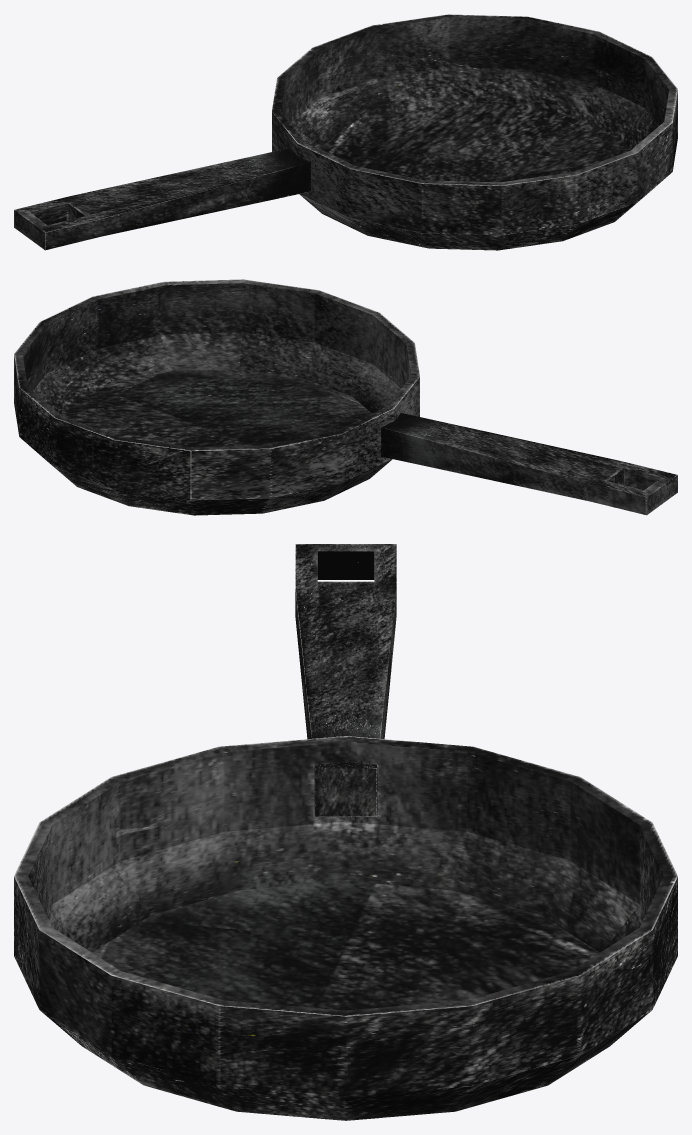
File: sarten_.obj
3 views of the same model, one above another, from view 1: azimuth 30°, elevation 25°; view 2: azimuth 150°, elevation 25°; view 3: azimuth 270°, elevation 25° (orthographic). The views are drawn at different scales.
Parts seen in each view (by area): view 1: Cylinder.001, Cube.001; view 2: Cylinder.001, Cube.001; view 3: Cylinder.001, Cube.001.
Boxes of the visible parts, bbox=[...] form: Cylinder.001: bbox=[272, 14, 677, 250]; Cube.001: bbox=[14, 148, 310, 250]; Cylinder.001: bbox=[14, 279, 419, 515]; Cube.001: bbox=[381, 413, 677, 515]; Cylinder.001: bbox=[14, 736, 677, 1120]; Cube.001: bbox=[295, 544, 396, 816].
Size of the model in its own units: 0.5054 by 0.0596 by 0.2879.
Materials: 1 (1 with a texture image).
